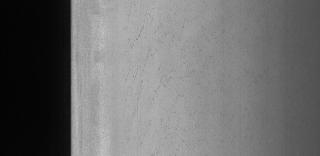silk spot: (118, 8, 222, 136)
